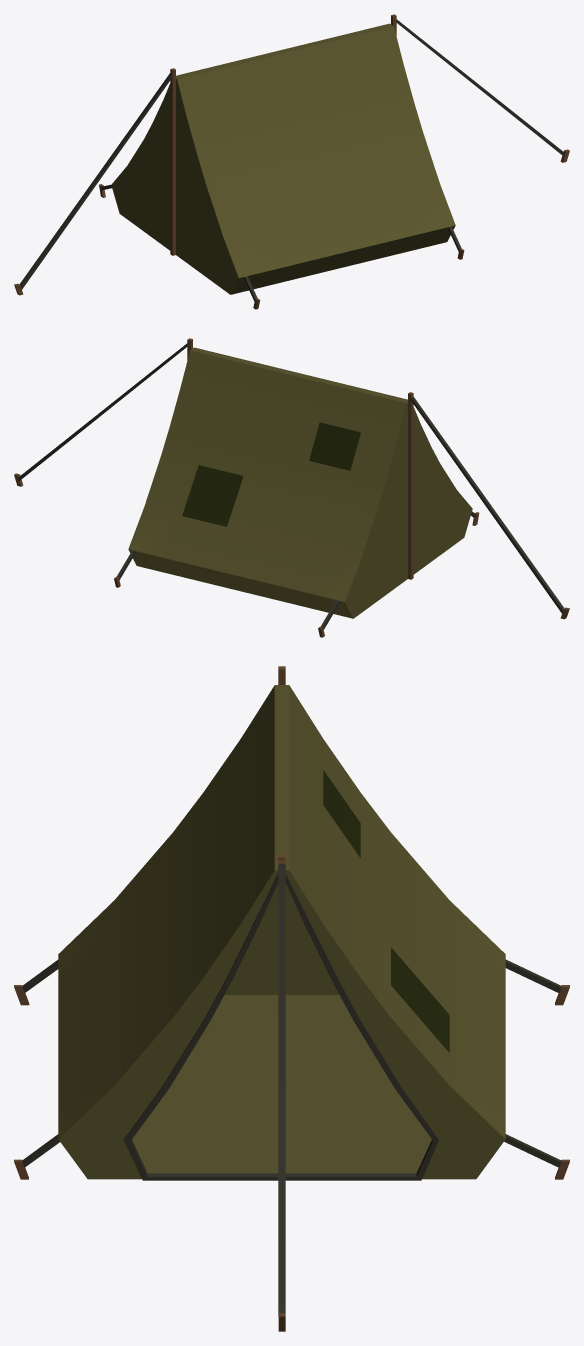
The model's file is Tent.fbx.
3 views of the same model, one above another, from view 1: azimuth 30°, elevation 25°; view 2: azimuth 150°, elevation 25°; view 3: azimuth 270°, elevation 25° (orthographic). The views are drawn at different scales.
Parts seen in each view (by area): view 1: Plane; view 2: Plane; view 3: Plane.
Part boxes in pixels (bbox=[...]): Plane: bbox=[14, 14, 569, 309]; Plane: bbox=[14, 338, 569, 637]; Plane: bbox=[14, 666, 569, 1331].
Size of the model in its own units: 956 by 309 by 474.
